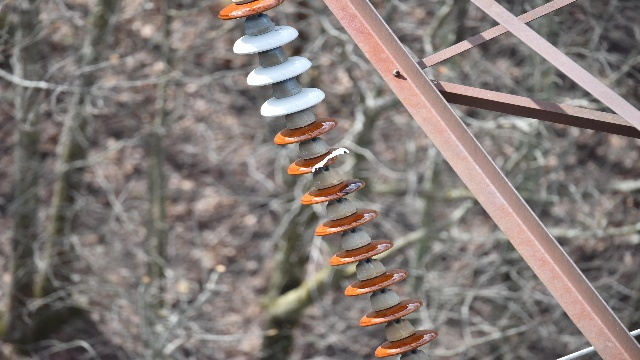broken_local: (307, 146, 351, 173)
insulator_unspecified: (216, 1, 438, 357)
